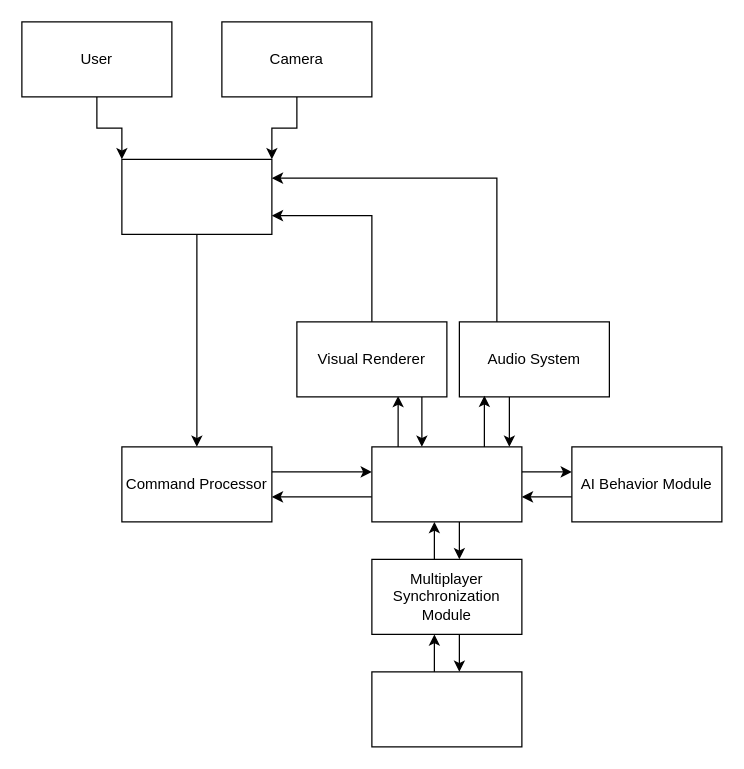
Some shapes in this 744 by 769 pixel diagram are drawn without their labels. Each missing label, with the box of its shape:
Game Logic Engine: (371, 446, 522, 522)
Multiplayer Server: (371, 671, 522, 747)
UI Manager: (121, 158, 272, 234)
